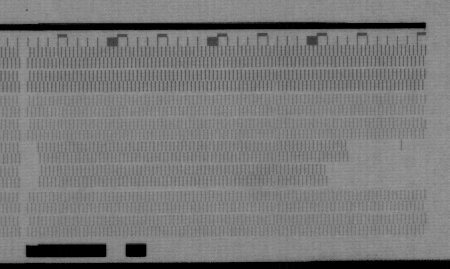Broken hole: (346, 139, 429, 195), (321, 162, 435, 195), (24, 141, 44, 190)
